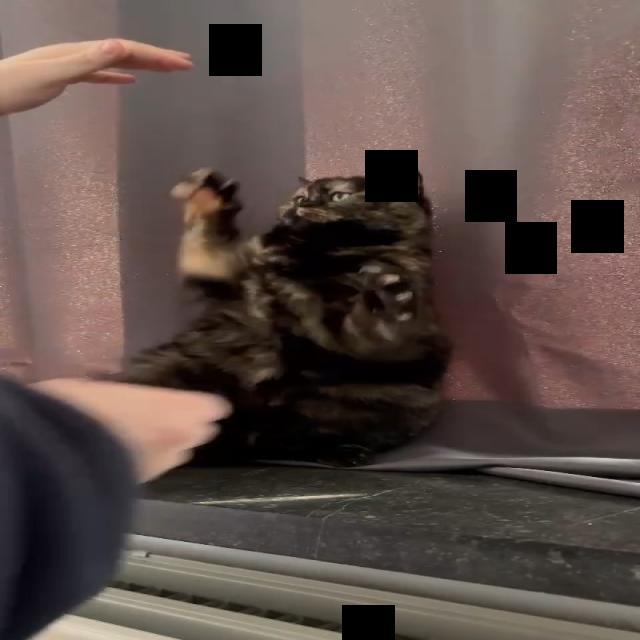authorized: (99, 160, 453, 468)
